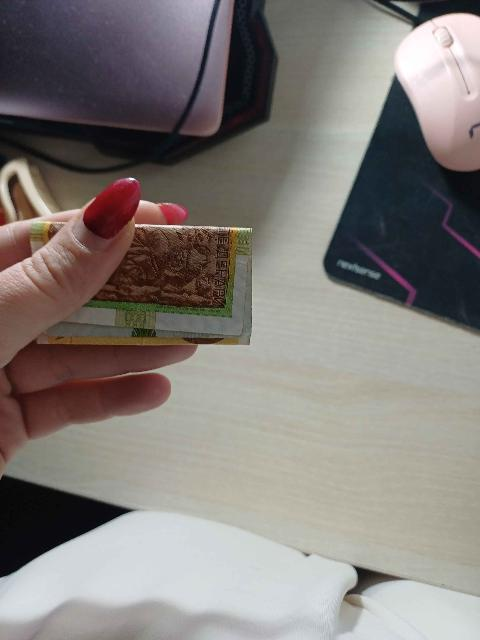note: (38, 225, 251, 344)
